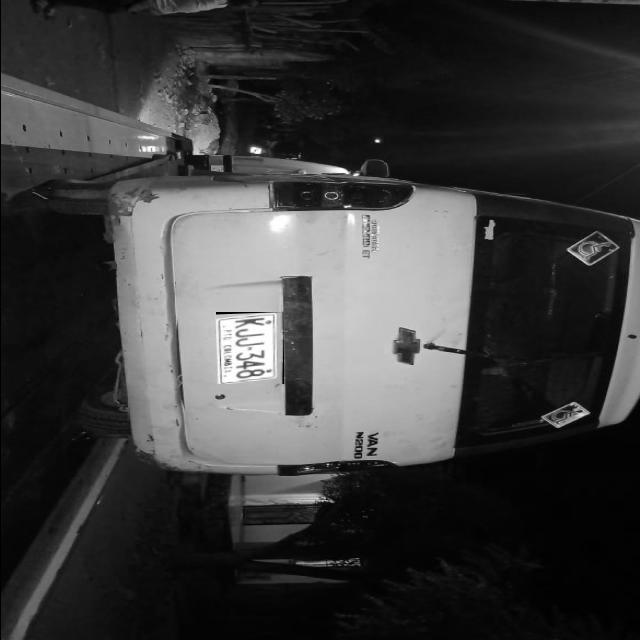plate: (215, 312, 283, 384)
